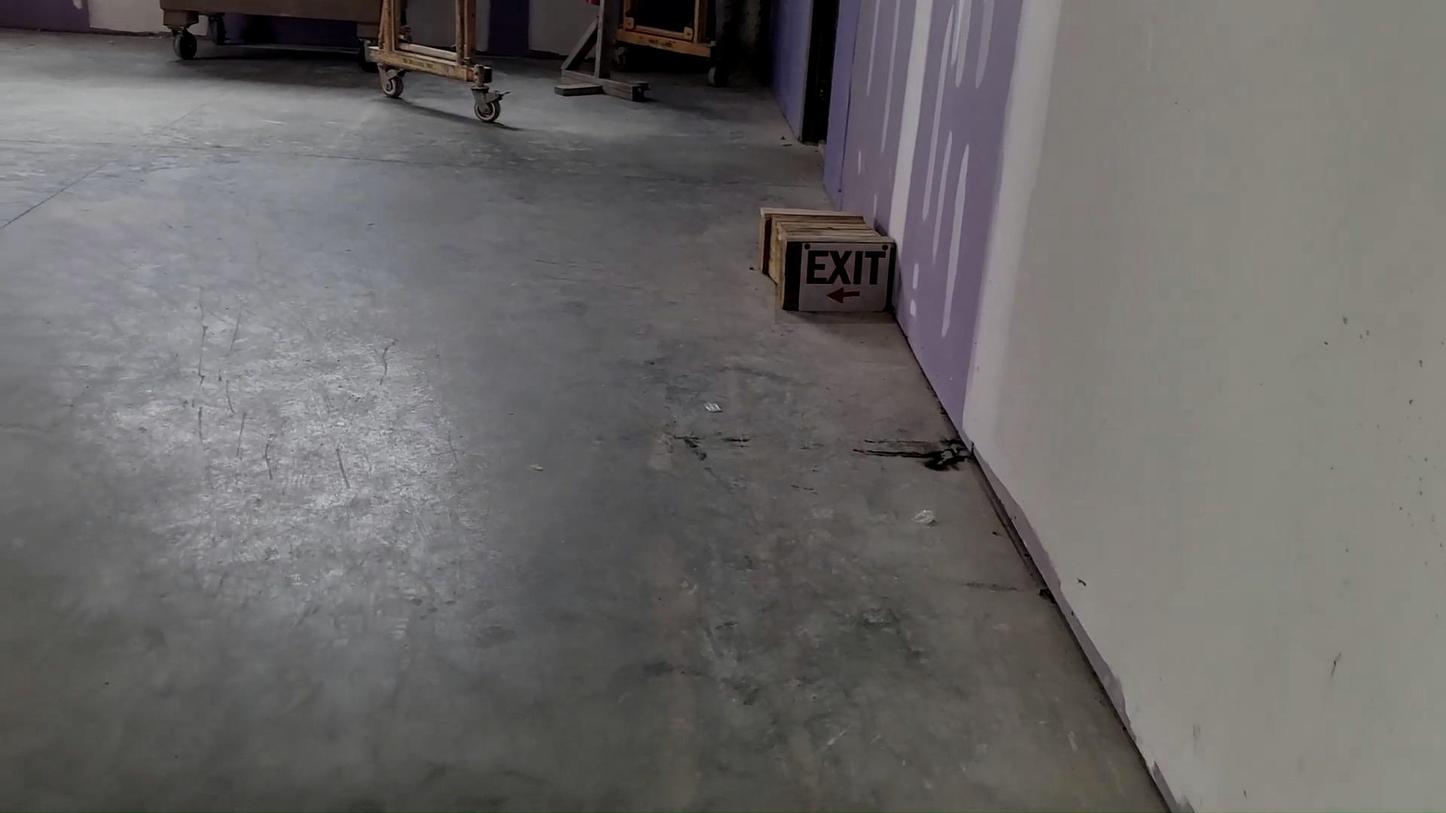exit_sign: (775, 239, 895, 324)
